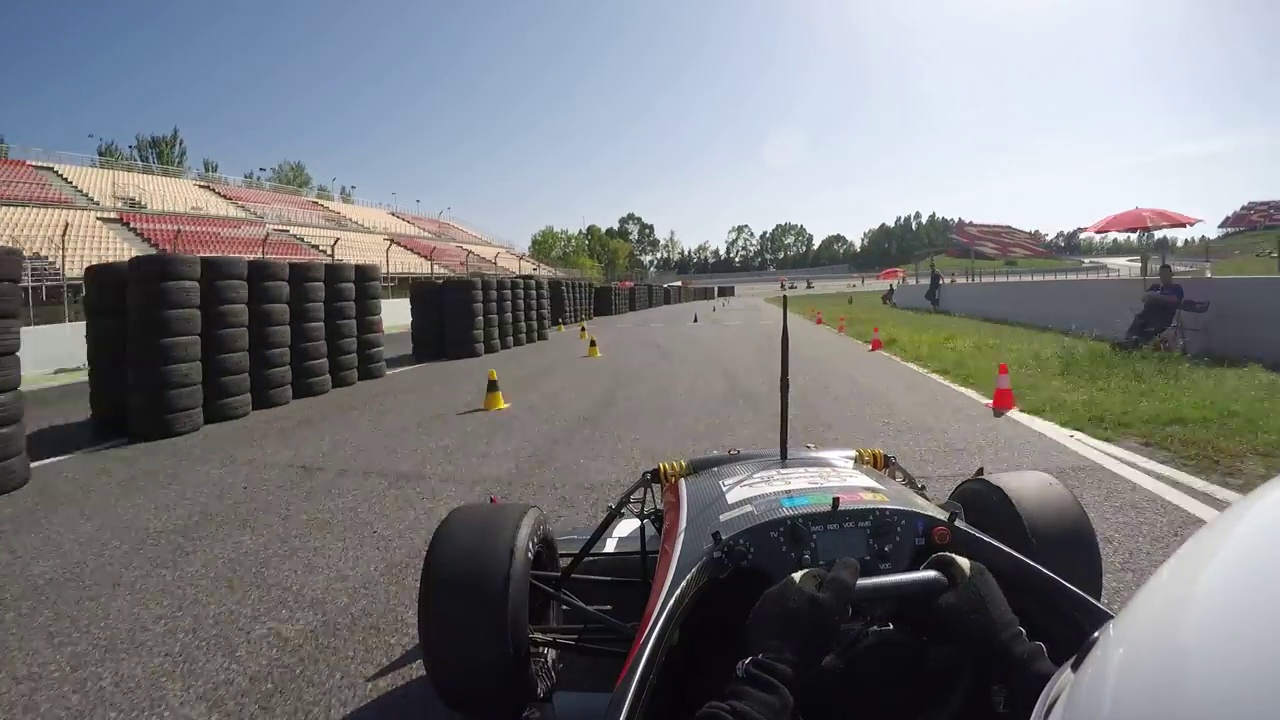Cone: (990, 362, 1021, 409), (479, 367, 507, 414)
